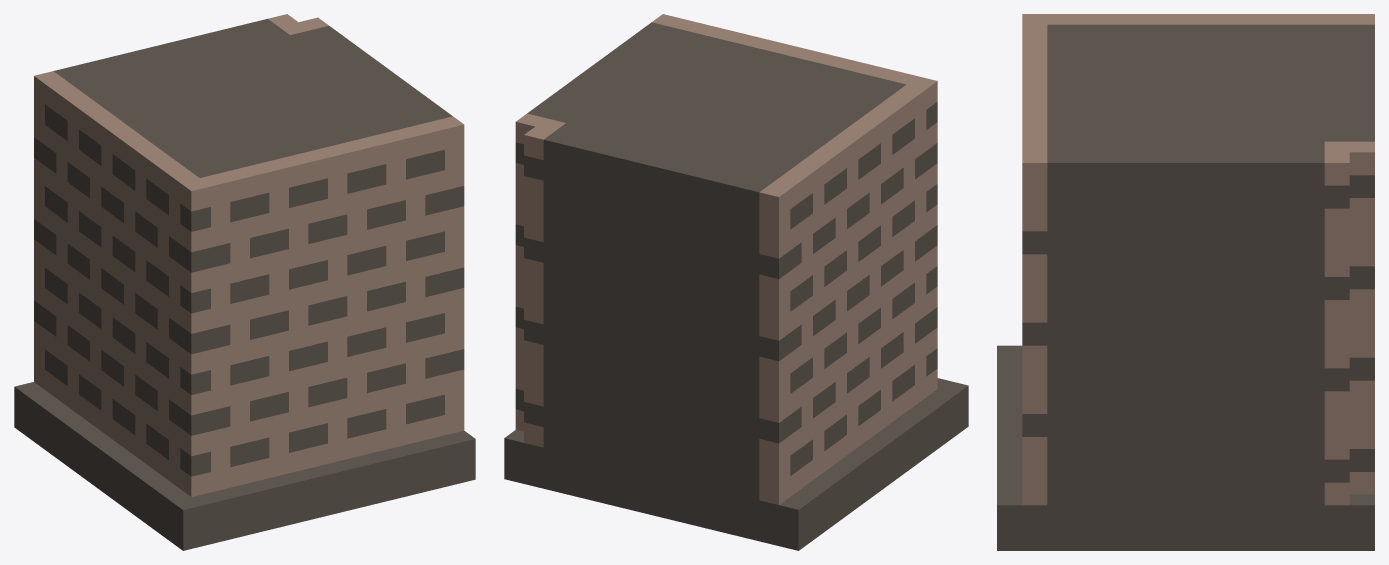
File: dungeon_a_b_inner_wall_corner_a.obj
3 views of the same model, side by side, from view 1: azimuth 30°, elevation 25°; view 2: azimuth 150°, elevation 25°; view 3: azimuth 270°, elevation 25° (orthographic). The views are drawn at different scales.
Size of the model in its own units: 1.5 by 1.7 by 1.5.
Materials: 1 (1 with a texture image).
